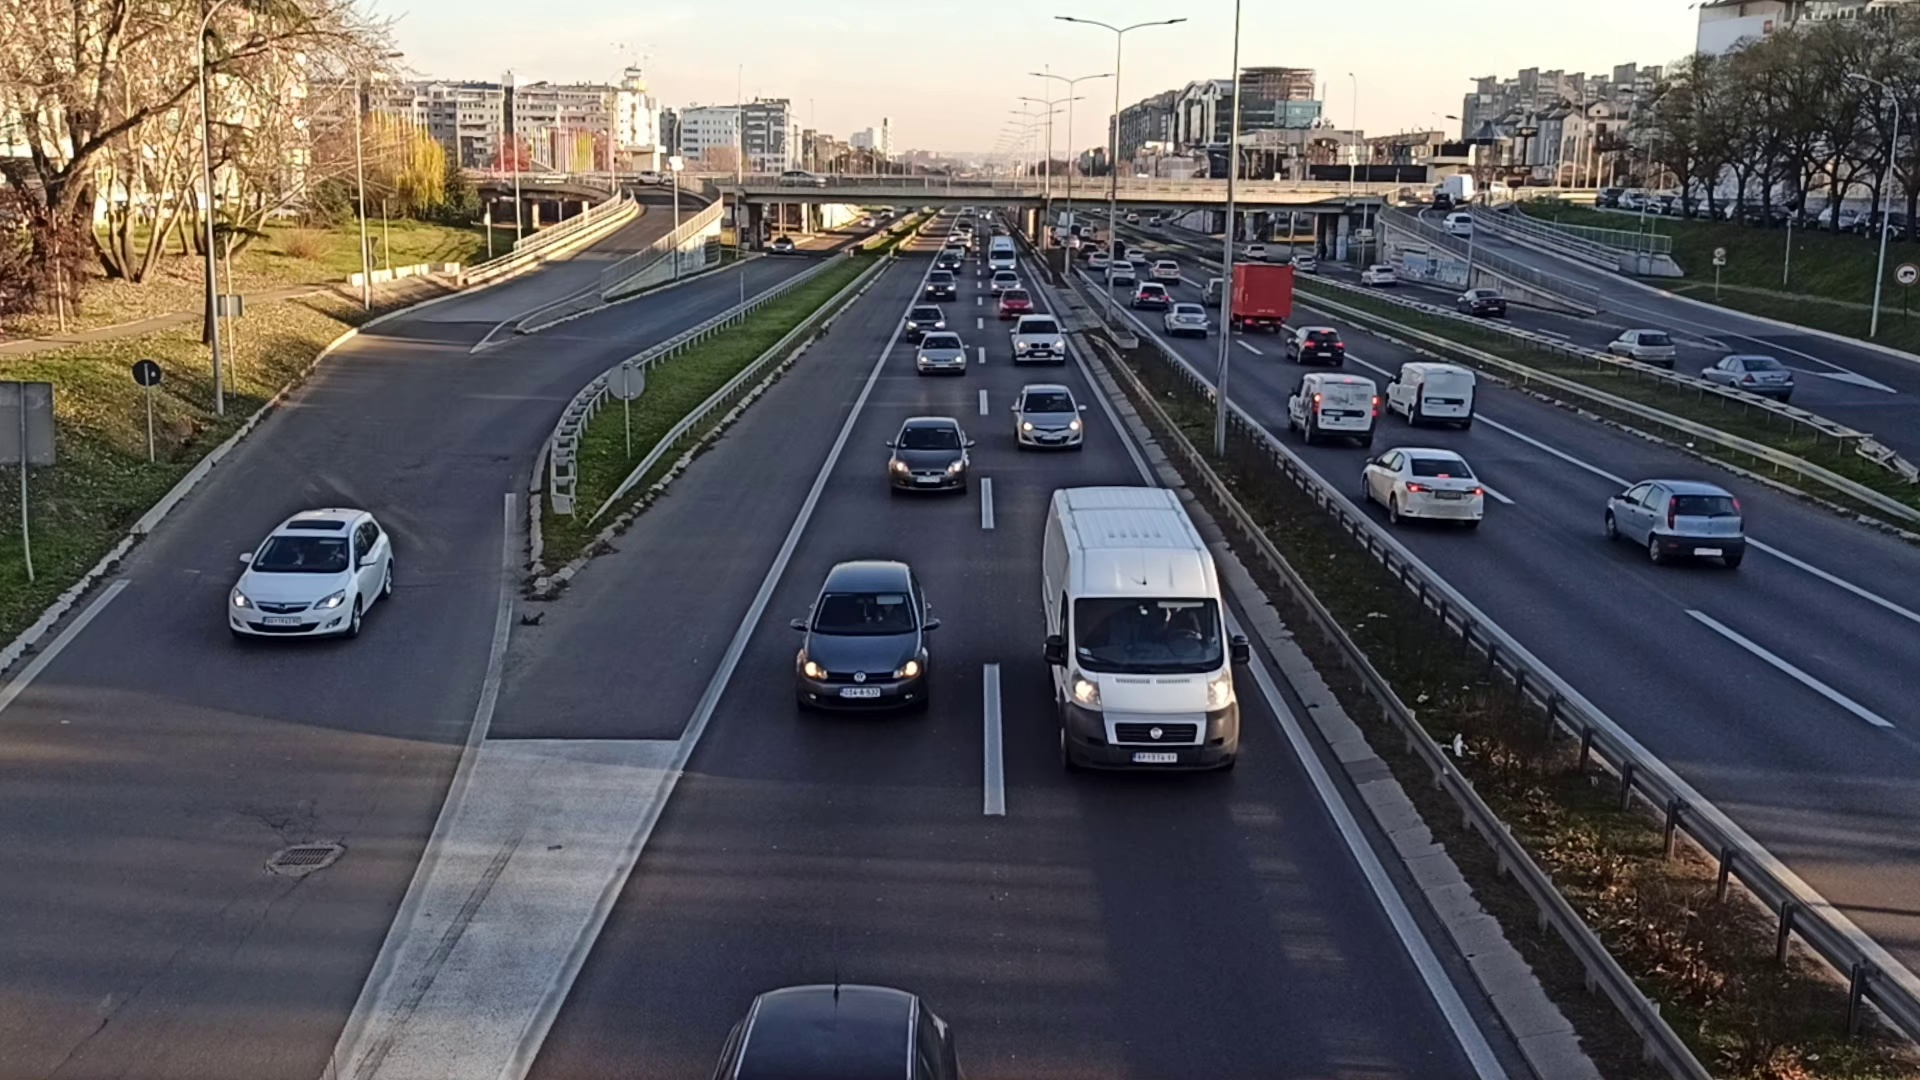car: (225, 504, 396, 653), (793, 558, 934, 717), (1604, 473, 1745, 568), (1362, 447, 1484, 534), (885, 415, 971, 497), (1014, 386, 1079, 451), (1009, 314, 1065, 365), (916, 331, 965, 378), (1286, 324, 1345, 363), (905, 305, 945, 339), (1164, 303, 1211, 334), (1130, 280, 1167, 309), (924, 269, 956, 298)
van: (1039, 487, 1240, 779), (1284, 372, 1377, 442), (1385, 363, 1474, 426)
